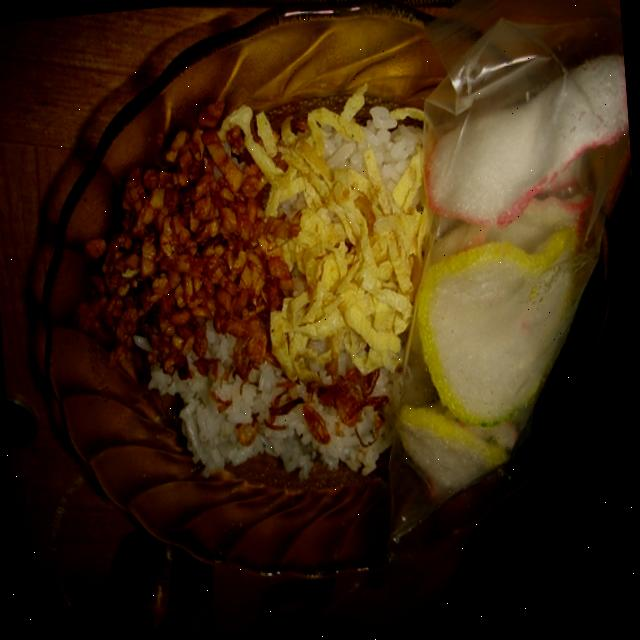米饭主食: (10, 0, 640, 613)
